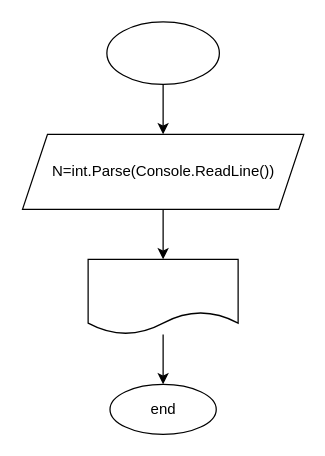
This 325x456 diagram has some shape labels left out. Each missing label, with the centre of its shape:
"PrintNumbers" goes at (x=162, y=296).
"start" goes at (x=162, y=52).
